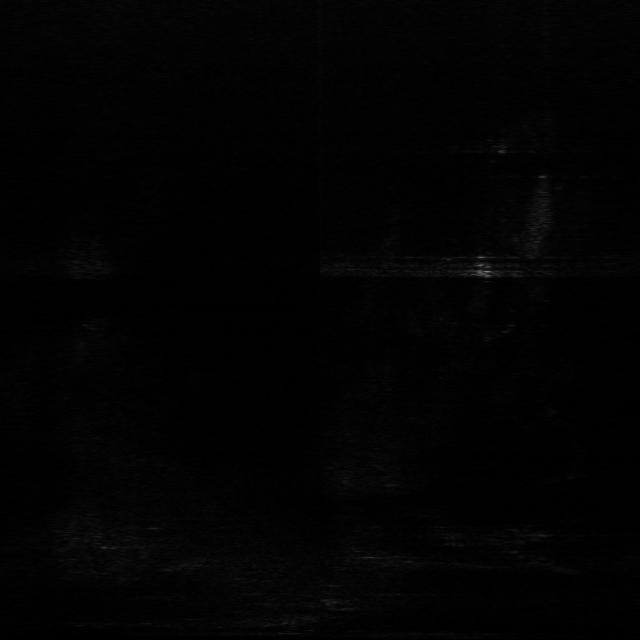rov: (468, 262, 496, 280)
